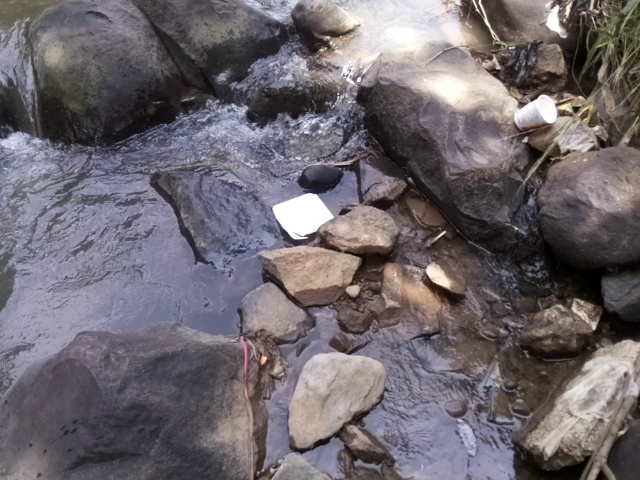Sampah_Styrofoam: (270, 191, 335, 240), (511, 93, 557, 136)
